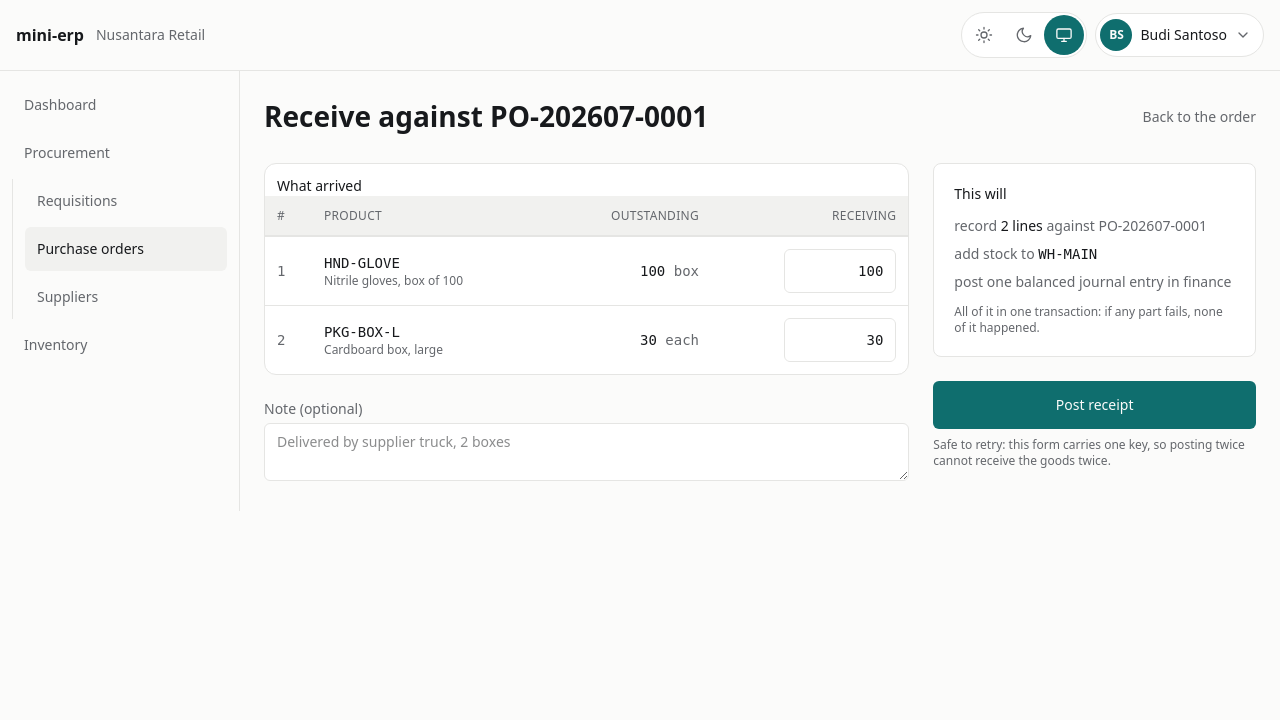
Scenario: FE4 — the receipt form pre-fills outstanding quantities › sends the box values as strings, unrounded
Check: the link "mini-erp" is shown, box [16, 23, 84, 47]
Replace the text in the field named "Quantity received for line 1" with "12.3456". click: coordinates (840, 271)
box: [784, 249, 896, 293]
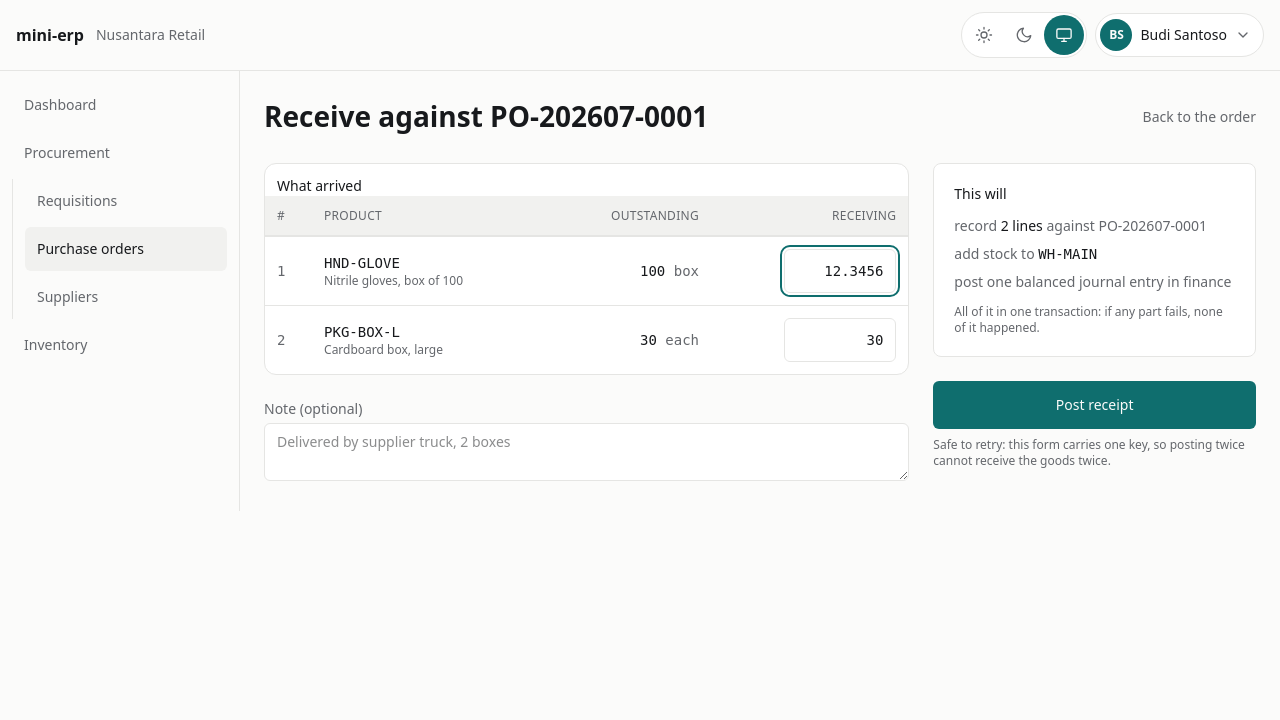
Click the button "Post receipt". click: coordinates (1095, 405)
box: [933, 381, 1256, 429]
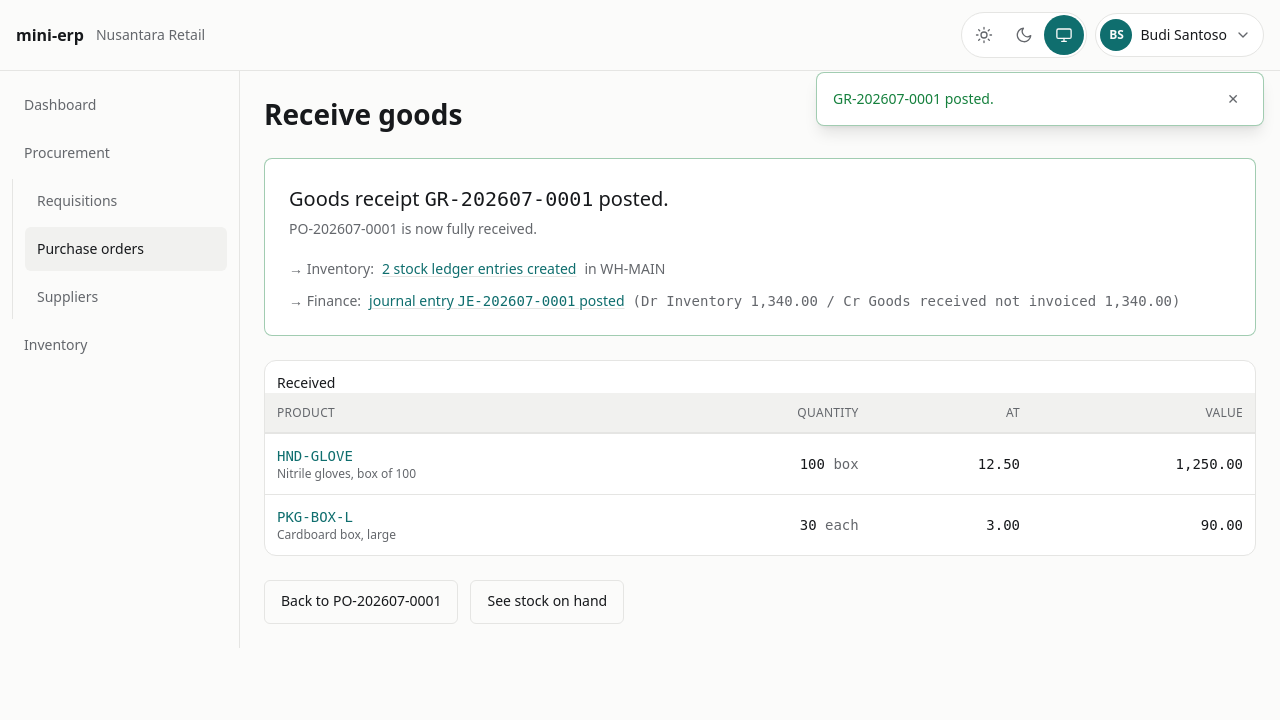
Check: the link "2 stock ledger entries created" is shown, box [382, 259, 576, 279]
